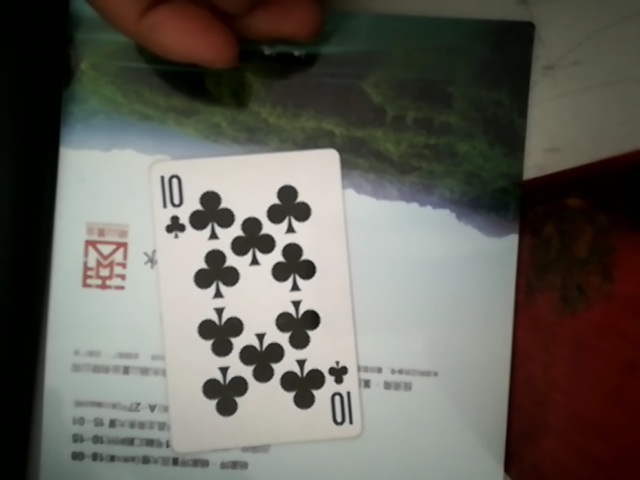mh 10: (160, 144, 361, 456)
